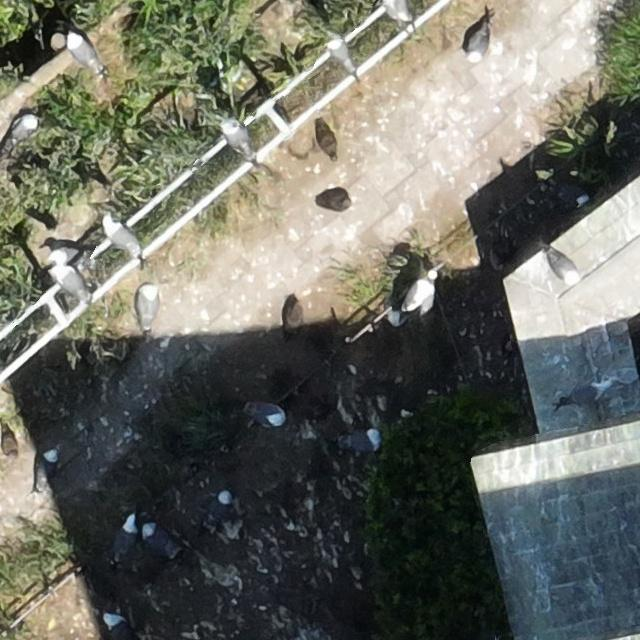umineko: (402, 268, 440, 319), (102, 213, 143, 260), (558, 378, 614, 408), (50, 266, 91, 305), (546, 244, 582, 286), (341, 426, 384, 457), (138, 284, 161, 336), (69, 34, 99, 70), (144, 525, 173, 555), (222, 122, 249, 151), (37, 448, 58, 484), (103, 613, 133, 638), (11, 114, 36, 143), (118, 520, 137, 556), (249, 404, 283, 424), (50, 245, 84, 264), (212, 491, 232, 523), (331, 38, 352, 66), (469, 32, 485, 58), (571, 187, 590, 205)
